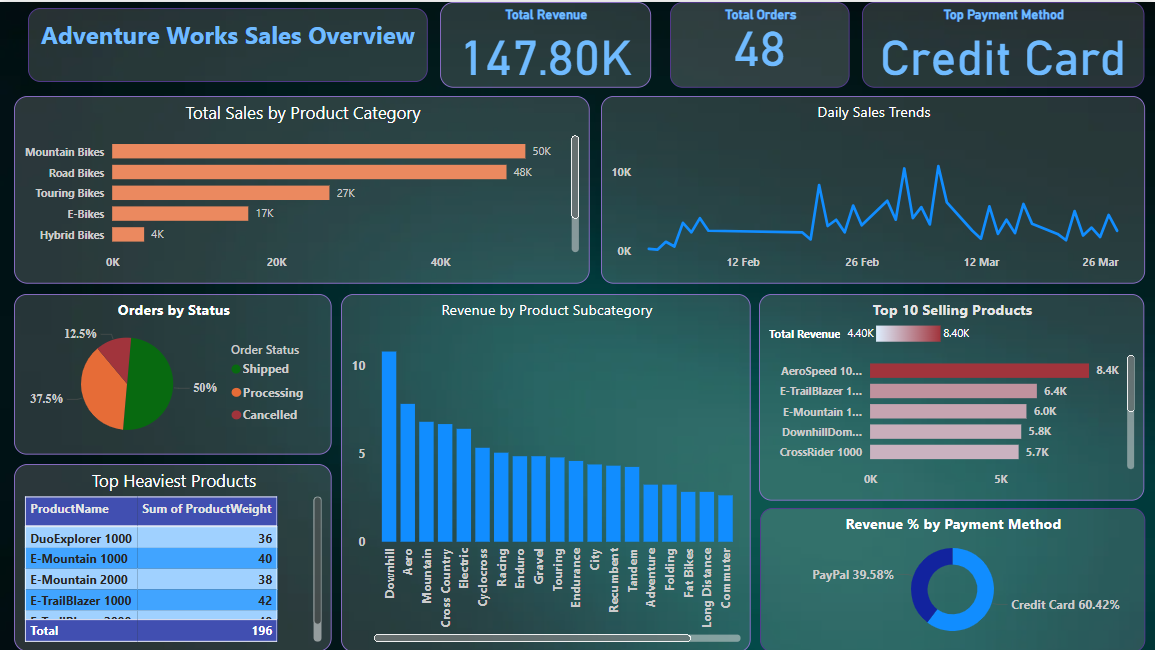

The dashboard page shown, as its layout file describes it:
{"tool":"powerbi","page":{"name":"Sales Overview and Trends","canvas":[1280,720],"ordinal":0},"visuals":[{"type":"barChart","title":"Total Sales by Product Category","fields":{"Category":["salesdb v_totalsalesbyproductcategory.ProductCategory"],"Y":["Sum(salesdb v_totalsalesbyproductcategory.Total_Sales)"]},"box":[15.5,104.2,638.3,208.3],"z":0},{"type":"lineChart","title":"Daily Sales Trends","fields":{"Y":["Sum(salesdb v_dailysalestrend.DailySales)"],"Category":["salesdb v_dailysalestrend.OrderDate.Variation.Date Hierarchy.Year","salesdb v_dailysalestrend.OrderDate.Variation.Date Hierarchy.Quarter","salesdb v_dailysalestrend.OrderDate.Variation.Date Hierarchy.Month","salesdb v_dailysalestrend.OrderDate.Variation.Date Hierarchy.Day"]},"box":[666,104.2,602.9,208.3],"z":1000},{"type":"pieChart","title":"Orders by Status","fields":{"Category":["salesdb v_ordersbystatus.OrderStatus"],"Series":["salesdb v_ordersbystatus.Order_Count"],"Y":["Sum(salesdb v_ordersbystatus.Order_Count)"]},"box":[15.5,323.6,352.4,178.4],"z":2000},{"type":"barChart","title":"Top 10 Selling Products","fields":{"Category":["salesdb v_topsellingproducts.ProductName"],"Y":["Sum(salesdb v_topsellingproducts.Total_Revenue)"]},"box":[841.1,323.6,426.7,229.4],"z":3000},{"type":"tableEx","title":"Top Heaviest Products","fields":{"Values":["salesdb v_heaviestproducts.ProductName","Sum(salesdb v_heaviestproducts.ProductWeight)"]},"box":[15.5,512,352.4,208.3],"z":4000},{"type":"columnChart","title":"Revenue by Product Subcategory","fields":{"Y":["Sum(salesdb v_revenuebyproductsubcategory.RevenuePercentage)"],"Category":["salesdb v_revenuebyproductsubcategory.ProductSubcategory"]},"box":[377.9,323.6,454.4,396.7],"z":5000},{"type":"donutChart","title":"Revenue % by Payment Method","fields":{"Category":["salesdb v_paymentmethodadoption.PaymentMethod","salesdb v_paymentmethodadoption.TotalOrders","salesdb v_paymentmethodadoption.TotalRevenue"],"Y":["Sum(salesdb v_paymentmethodadoption.OrderPercentage)"]},"box":[842.3,560.8,426.7,159.6],"z":6000},{"type":"textbox","box":[15.5,0,448.8,95.3],"z":7000},{"type":"card","title":"Total Orders","fields":{"Values":["CountNonNull(salesdb salesdata.OrderID)"]},"box":[751.4,0,199.5,95.3],"z":8000},{"type":"card","title":"Top Payment Method","fields":{"Values":["Min(salesdb v_paymentmethodadoption.PaymentMethod)"]},"box":[956.4,0,312.5,95.3],"z":10000},{"type":"card","title":"Total Revenue","fields":{"Values":["Sum(salesdb salesdata.OrderTotal)"]},"box":[487.6,0,233.8,95.3],"z":11000}]}

Visuals, with their boxes in screenshot pixels (x1, y1, x2, y2), scaled from the page's 1280x720 canvas onto the 1155x650 screenshot:
"Total Sales by Product Category" barChart: [14,94,590,282]
"Daily Sales Trends" lineChart: [601,94,1145,282]
"Orders by Status" pieChart: [14,292,332,453]
"Top 10 Selling Products" barChart: [759,292,1144,499]
"Top Heaviest Products" tableEx: [14,462,332,649]
"Revenue by Product Subcategory" columnChart: [341,292,751,649]
"Revenue % by Payment Method" donutChart: [760,506,1145,649]
textbox: [14,0,419,86]
"Total Orders" card: [678,0,858,86]
"Top Payment Method" card: [863,0,1145,86]
"Total Revenue" card: [440,0,651,86]
